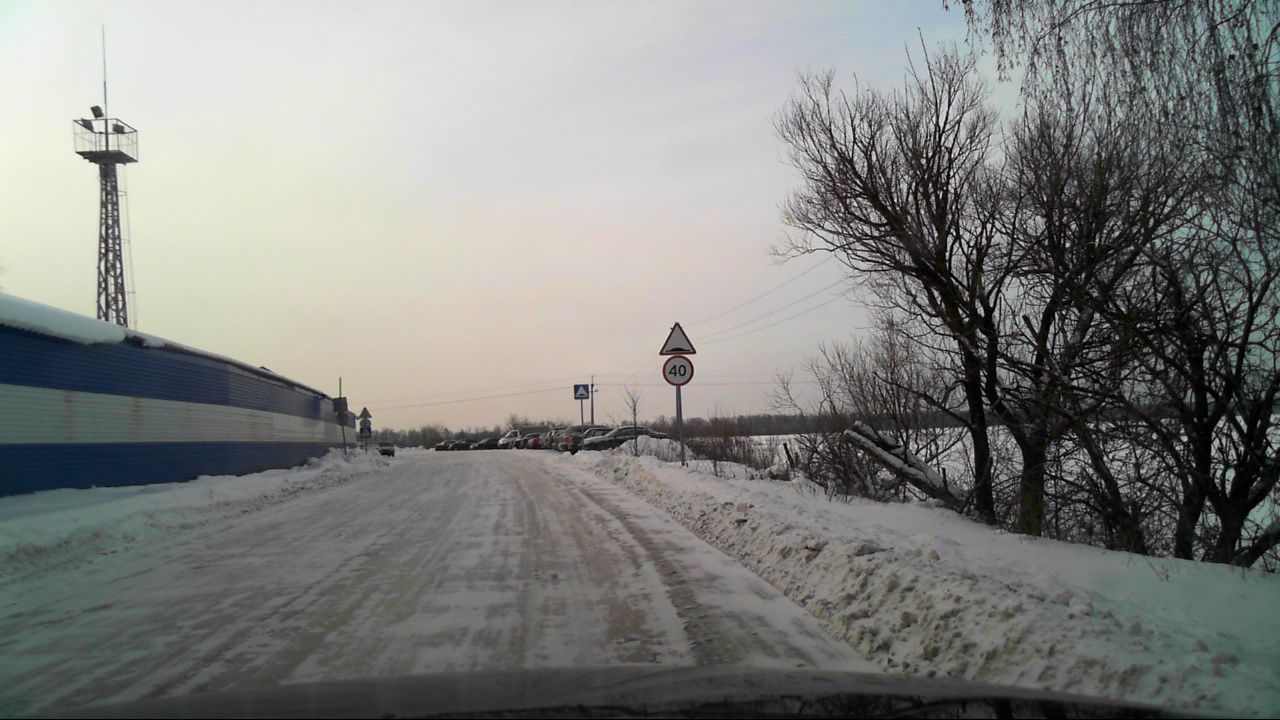speed_warning_40: (662, 355, 693, 385)
